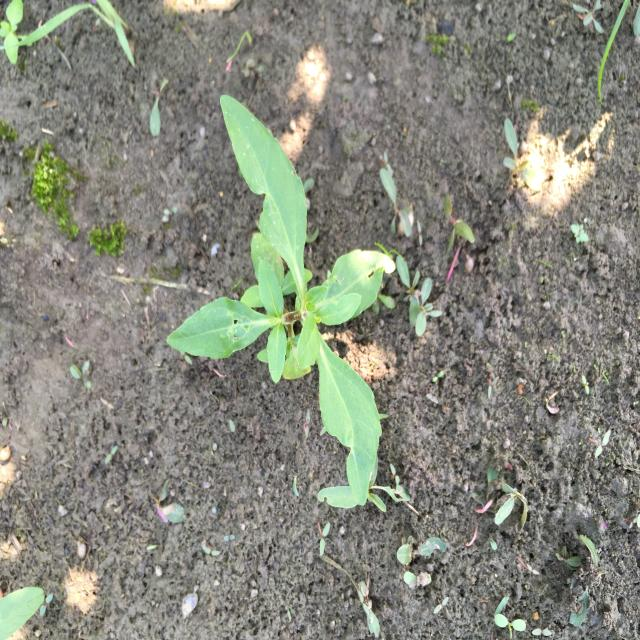Eclipta: (164, 92, 397, 510)
